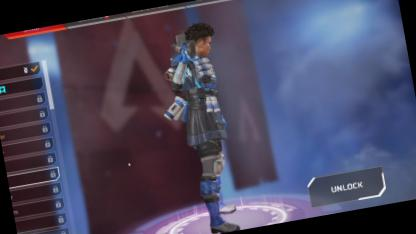Target: (162, 17, 242, 190)
